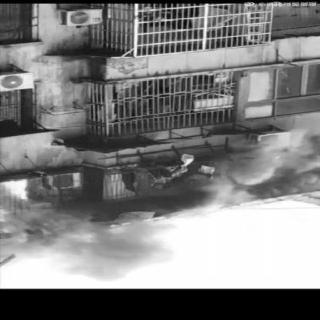Fire: (2, 172, 86, 246)
